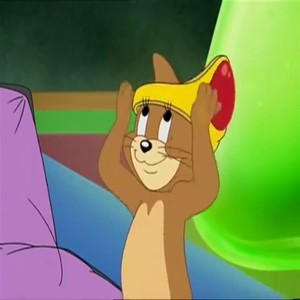Jerry: (97, 59, 232, 297)
